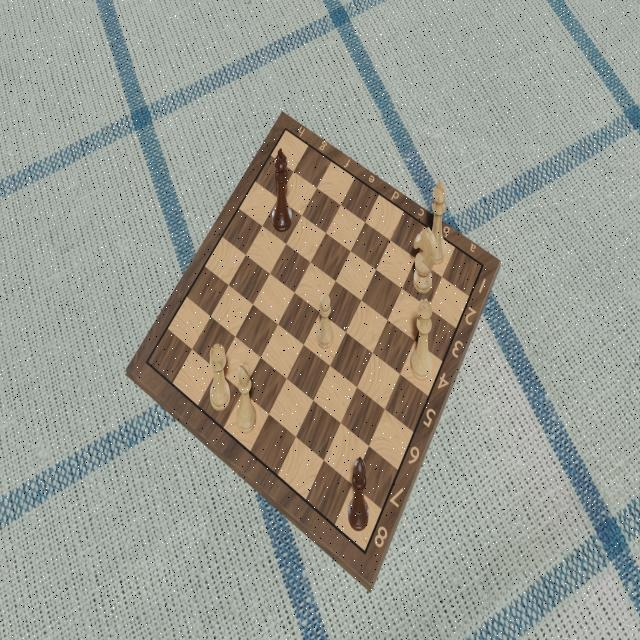black-bishop: (347, 454, 373, 534)
black-king: (268, 143, 295, 236)
white-bishop: (231, 358, 257, 436)
white-king: (423, 179, 448, 271)
white-knight: (413, 226, 437, 296)
white-pawn: (314, 293, 334, 352)
white-queen: (409, 299, 435, 383)
white-rook: (207, 344, 232, 412)
